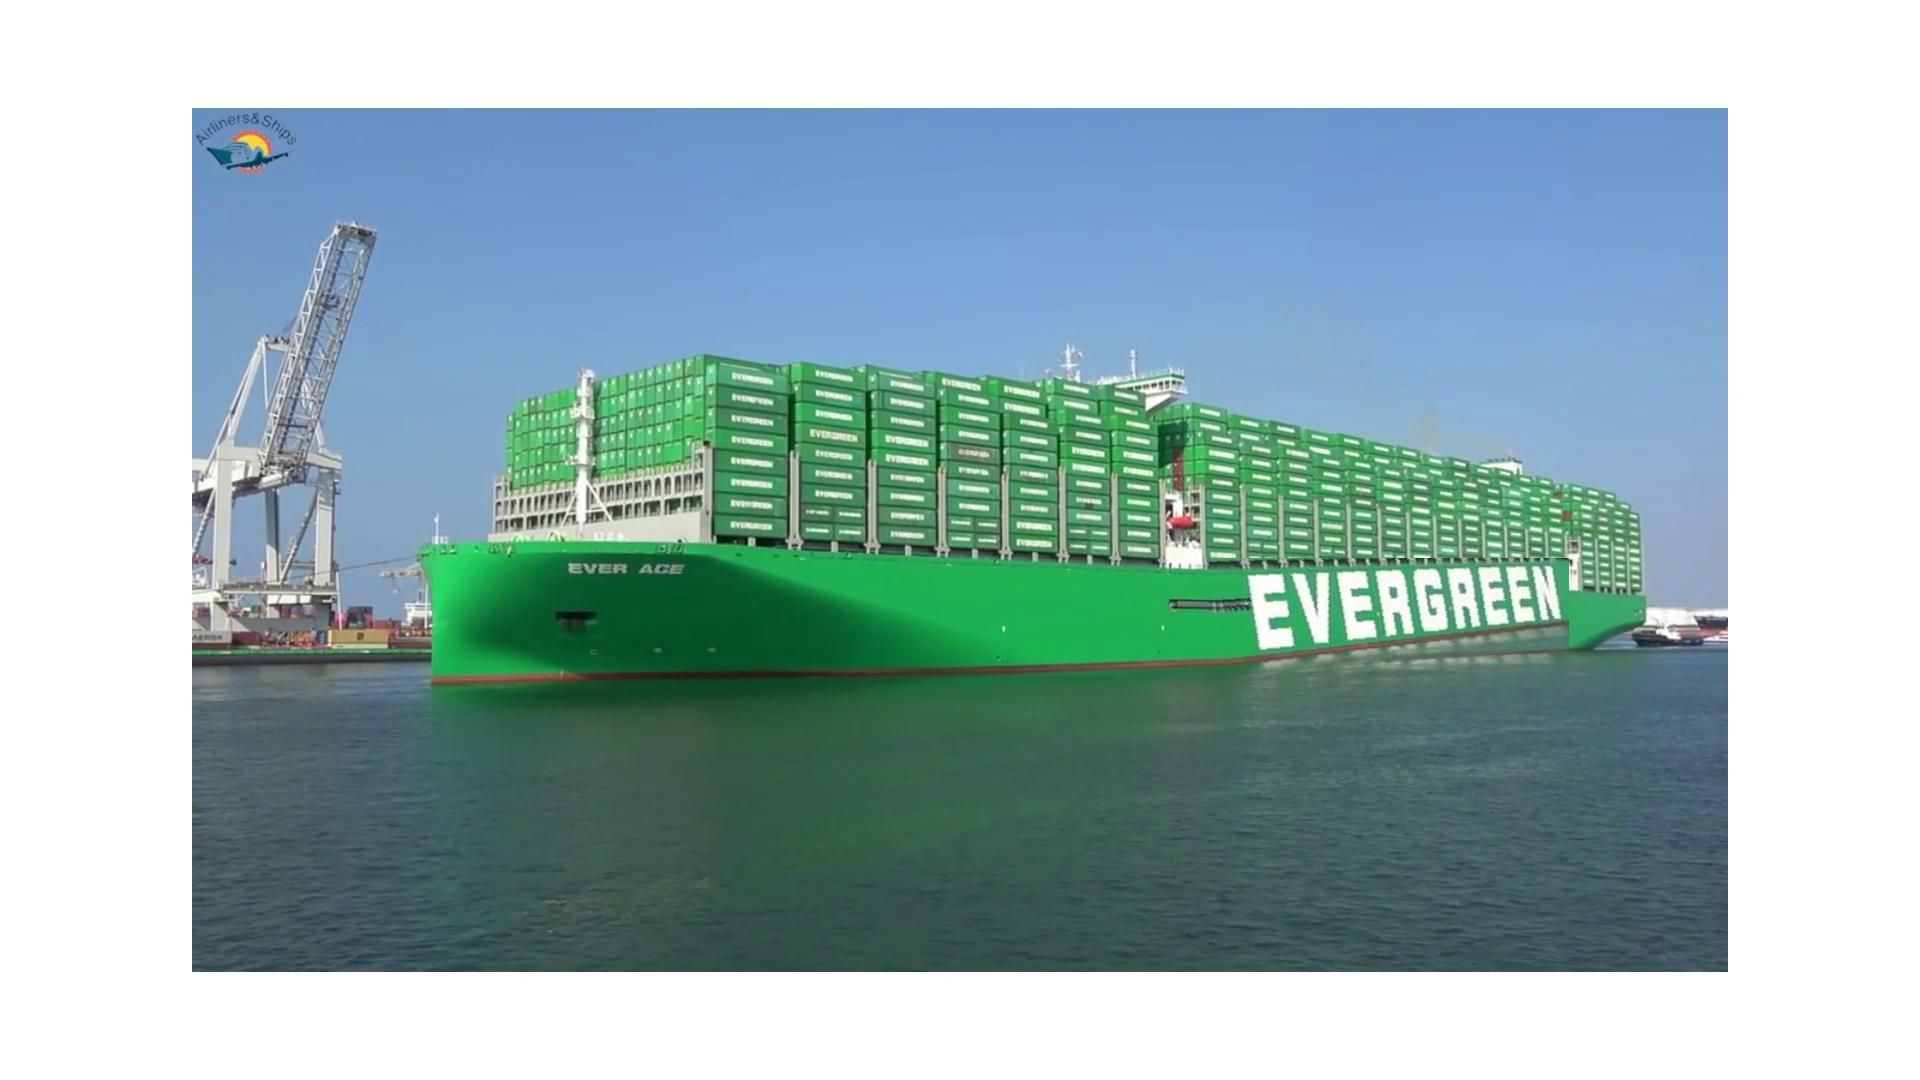OCR: (1211, 558, 1569, 676), (537, 545, 700, 588)
